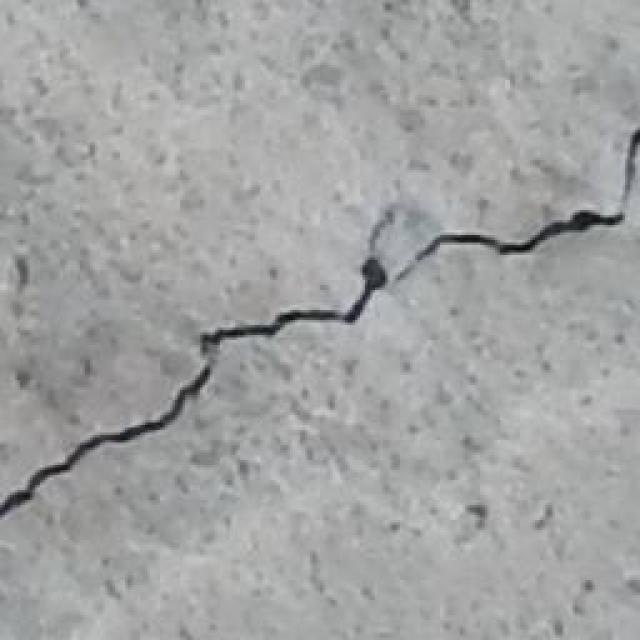concrete-crack: (0, 122, 640, 520)
